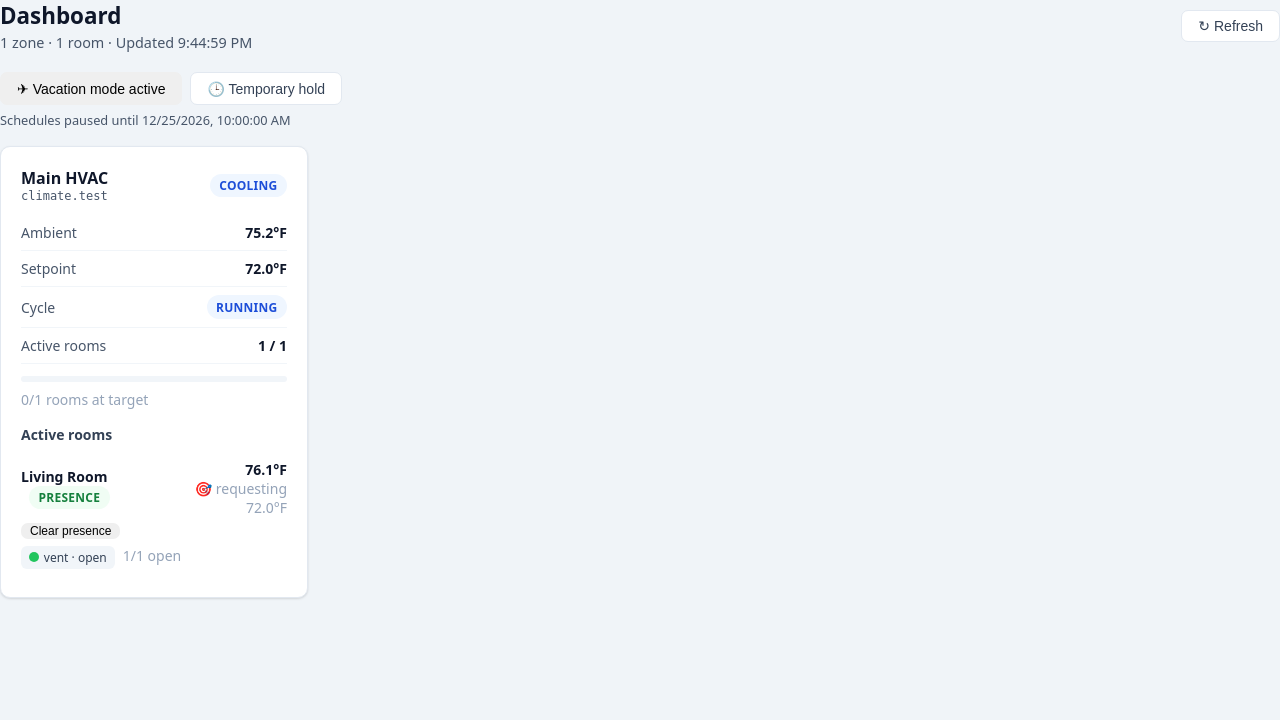
Scenario: Dashboard Page › shows vacation mode active state and opens modal on button click
The image size is (1280, 720).
Check: the text "Schedules paused until 12/25/2026, 10:00:00 AM" is shown, box [0,111,291,129]
What coordinates should you click on to do the following:
click the button "✈ Vacation mode active"
I would click on:
 (91, 89)
Its box is [0,72,182,105].
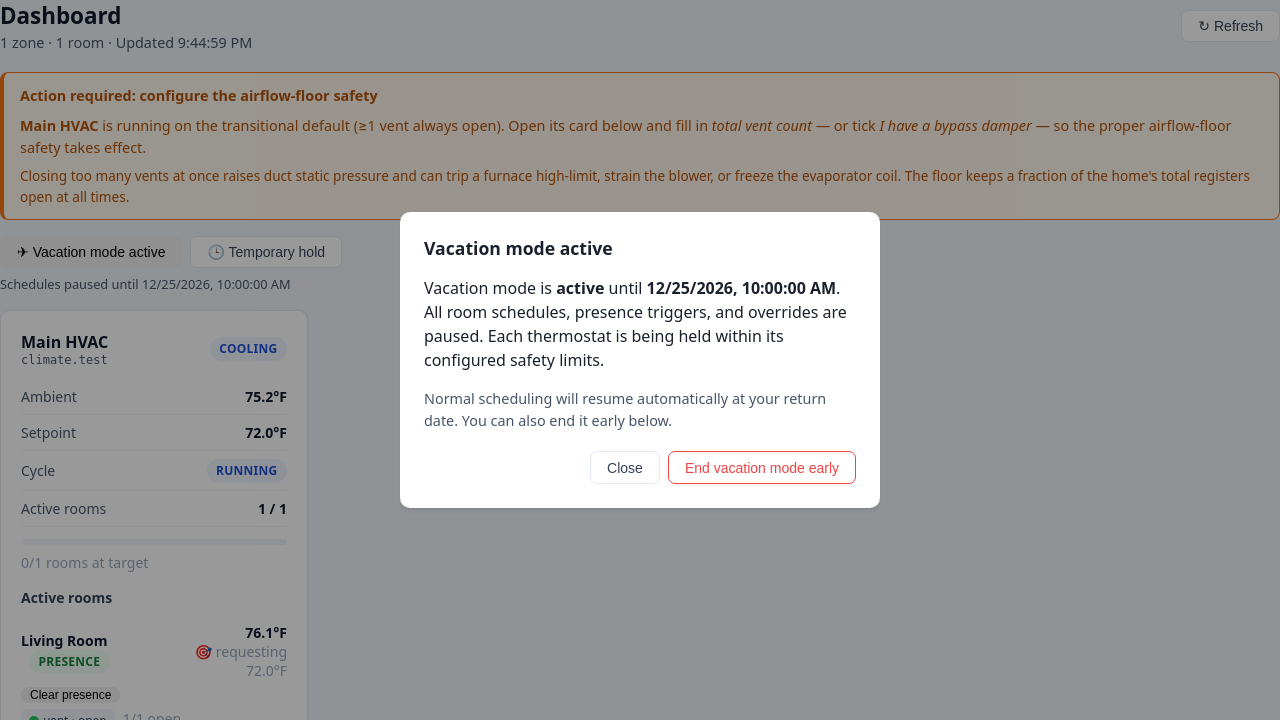
Check: the button "End vacation mode early" is shown, box [668,451,856,484]
